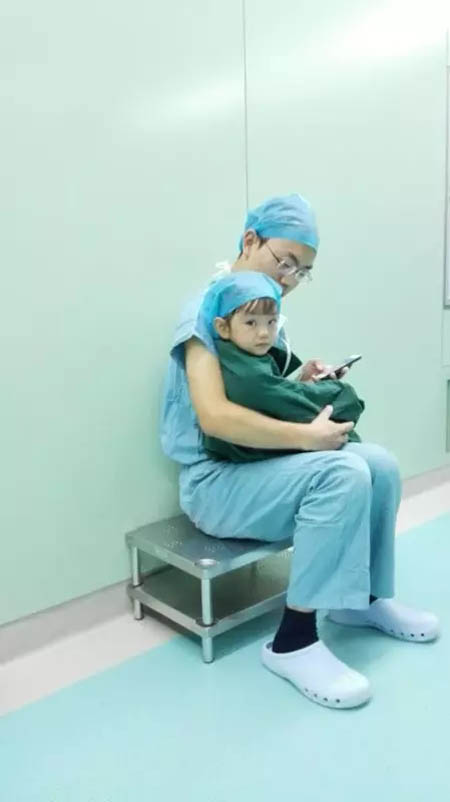face: (264, 238, 316, 306), (229, 288, 275, 355)
